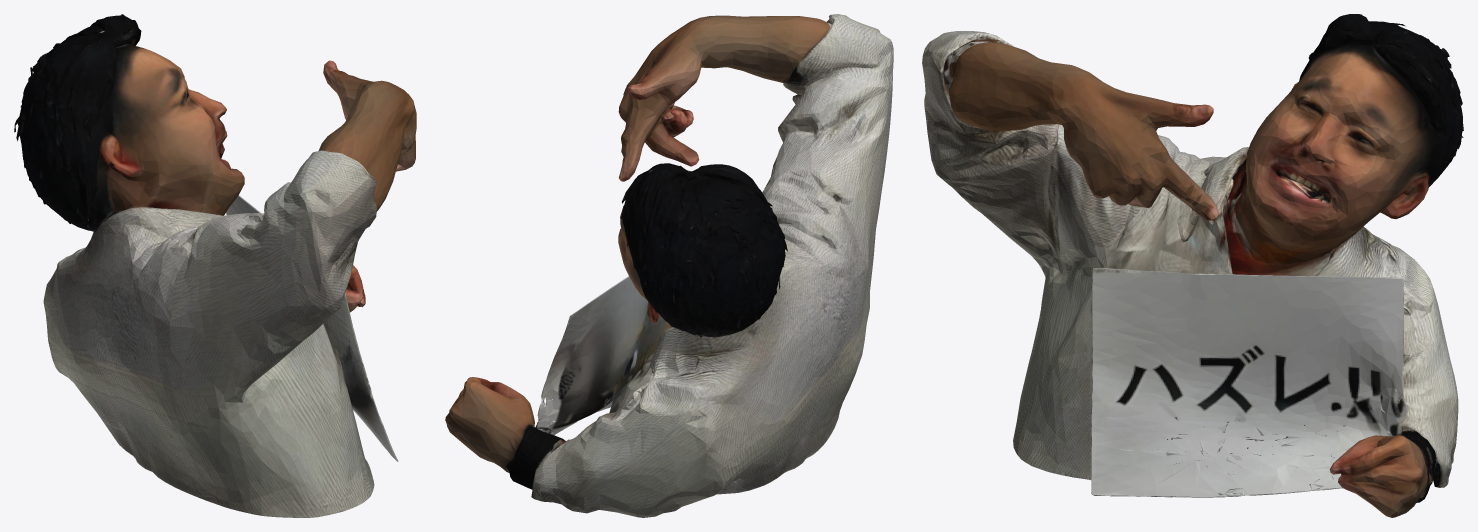
File: taniguchi.glb
3 renders of one model, left to right at view 1: azimuth 30°, elevation 25°; view 2: azimuth 150°, elevation 25°; view 3: azimuth 270°, elevation 25°, orthographic. The views are drawn at different scales.
Visible parts, largest first — view 1: tripo_node_1a51c57b-ae1a-4392-90e9-b617d232fcc6; view 2: tripo_node_1a51c57b-ae1a-4392-90e9-b617d232fcc6; view 3: tripo_node_1a51c57b-ae1a-4392-90e9-b617d232fcc6.
Boxes of the visible parts, x1,y1,x2,y2 form: tripo_node_1a51c57b-ae1a-4392-90e9-b617d232fcc6: [14, 14, 416, 517]; tripo_node_1a51c57b-ae1a-4392-90e9-b617d232fcc6: [445, 14, 893, 517]; tripo_node_1a51c57b-ae1a-4392-90e9-b617d232fcc6: [922, 14, 1463, 517].
Bounding box in the file's own units: 0.7623 × 0.8384 × 0.9997.
Materials: 1 (1 with a texture image).
